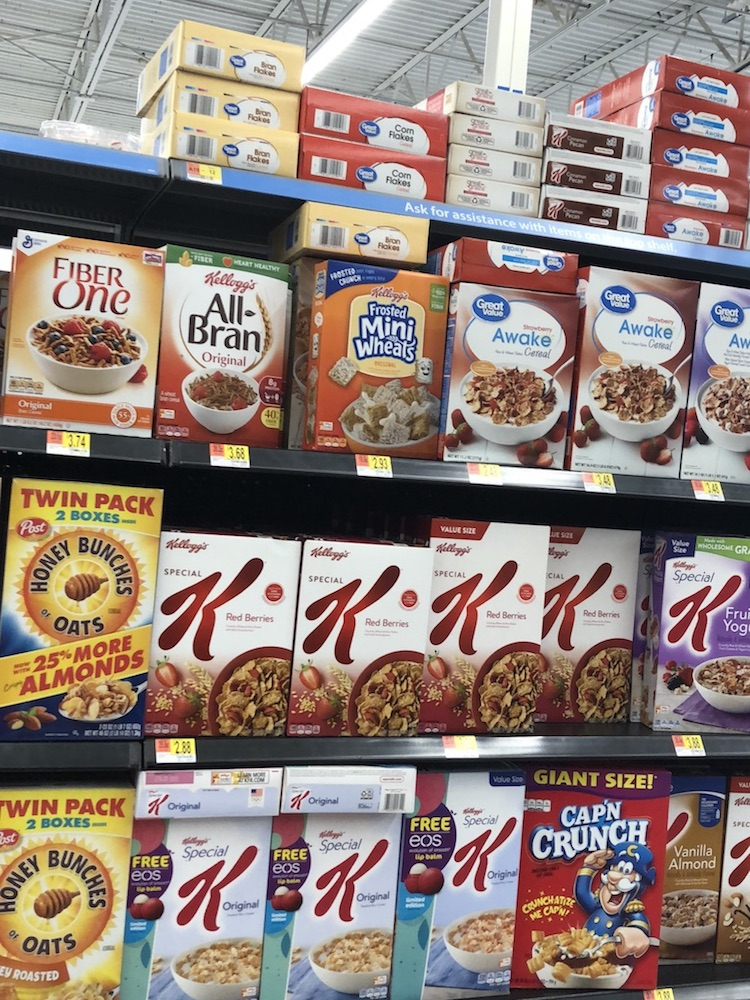Frosted Mini Original -9295869: (315, 262, 443, 453)
